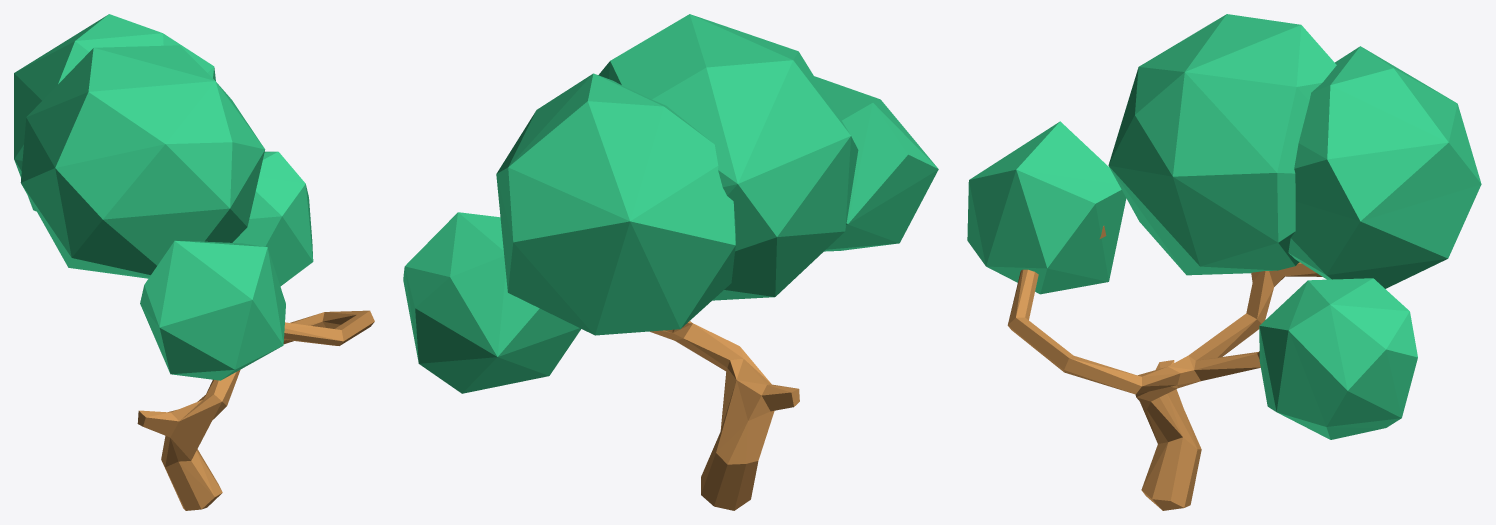
File: Tree5.fbx
3 views of the same model, side by side, from view 1: azimuth 30°, elevation 25°; view 2: azimuth 150°, elevation 25°; view 3: azimuth 270°, elevation 25° (orthographic). The views are drawn at different scales.
Visible parts, largest first — view 1: Icosphere.001, Icosphere.002, Cube, Icosphere.003, Icosphere; view 2: Icosphere, Icosphere.001, Icosphere.003, Icosphere.002, Cube; view 3: Icosphere.001, Icosphere, Icosphere.003, Icosphere.002, Cube.
Part boxes in pixels (x1,y1,x2,y2): Icosphere.001: (20,45,265,278); Icosphere.002: (140,240,285,380); Cube: (137,310,374,510); Icosphere.003: (232,151,313,286); Icosphere: (14,14,215,211); Icosphere: (496,73,735,335); Icosphere.001: (598,14,858,300); Icosphere.003: (403,212,580,393); Icosphere.002: (814,76,938,251); Cube: (650,321,799,510); Icosphere.001: (1108,14,1336,275); Icosphere: (1288,46,1481,288); Icosphere.003: (1259,278,1417,439); Icosphere.002: (967,121,1126,294); Cube: (1007,226,1322,510).
Bounding box in the file's own units: 164 × 211 × 212.
